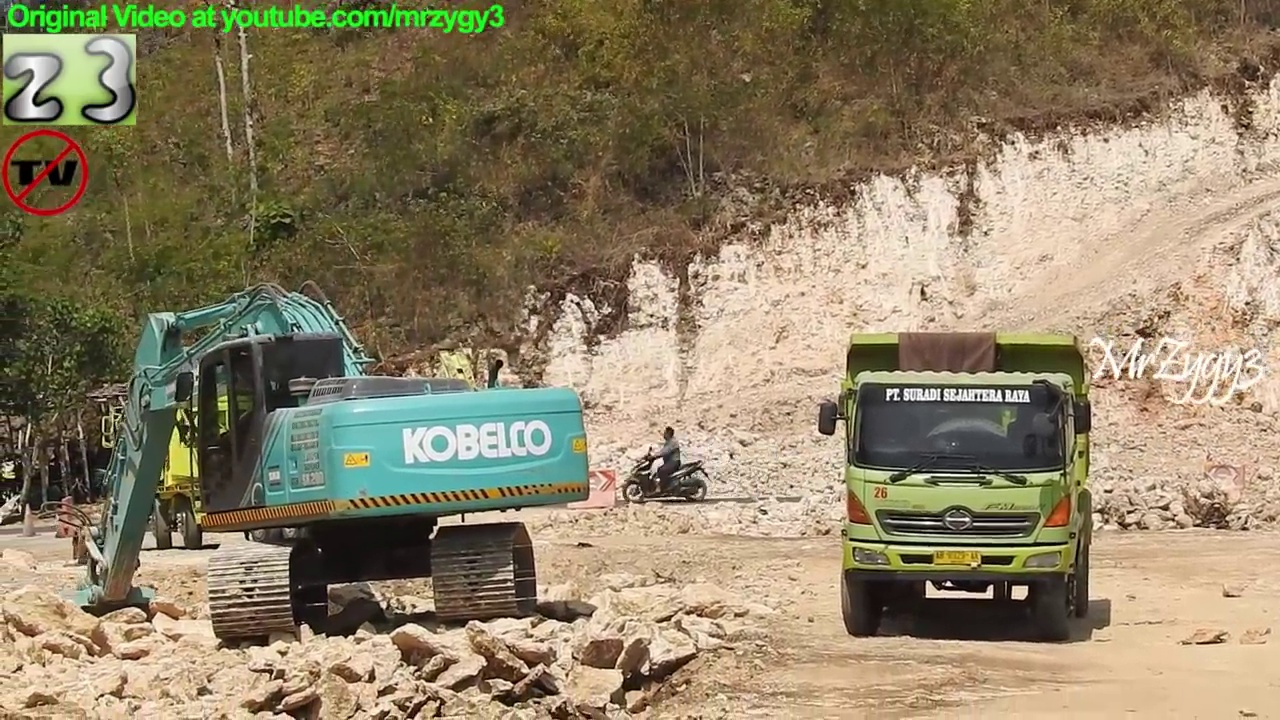excavator: (67, 275, 599, 648)
truck: (813, 327, 1100, 644), (86, 348, 507, 555)
